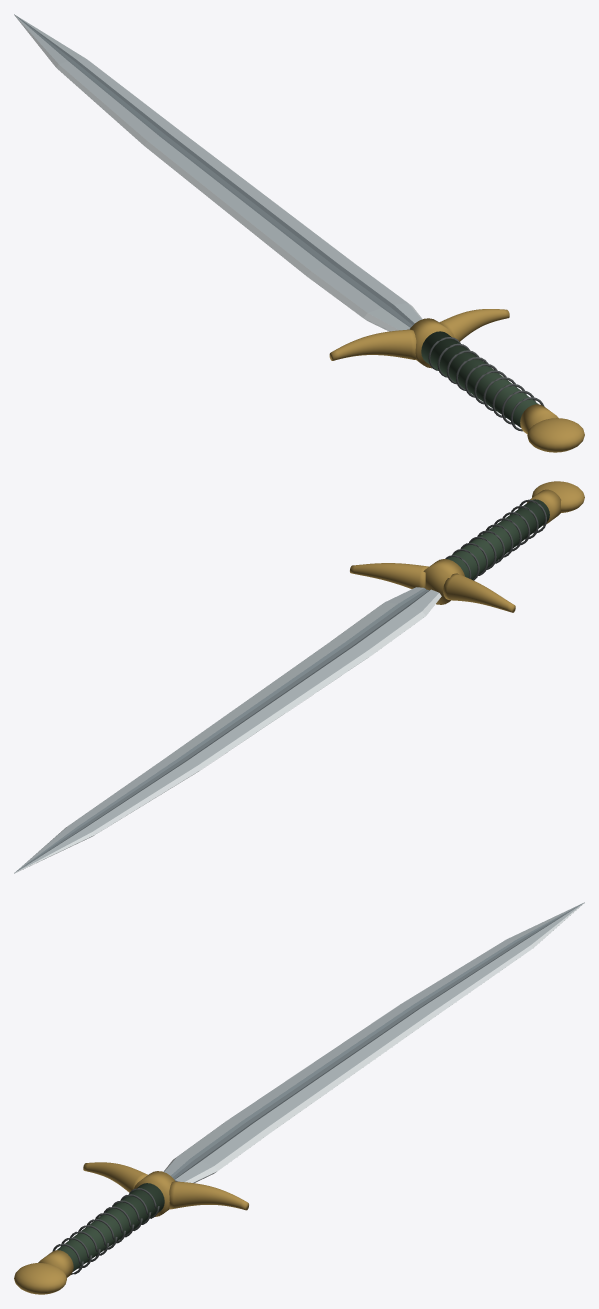
Rendered from briarsteel.glb.
The picture shows the model from 3 angles, top to bottom: view 1: azimuth 30°, elevation 25°; view 2: azimuth 150°, elevation 25°; view 3: azimuth 330°, elevation 25°; orthographic projection. The views are drawn at different scales.
Parts seen in each view (by area): view 1: Forged_briarsteel; view 2: Forged_briarsteel; view 3: Forged_briarsteel.
Part boxes in pixels (x1,y1,x2,y2): Forged_briarsteel: (14, 14, 584, 452); Forged_briarsteel: (14, 481, 584, 873); Forged_briarsteel: (14, 902, 584, 1294).
Size of the model in its own units: 0.2502 by 0.054 by 1.43.
